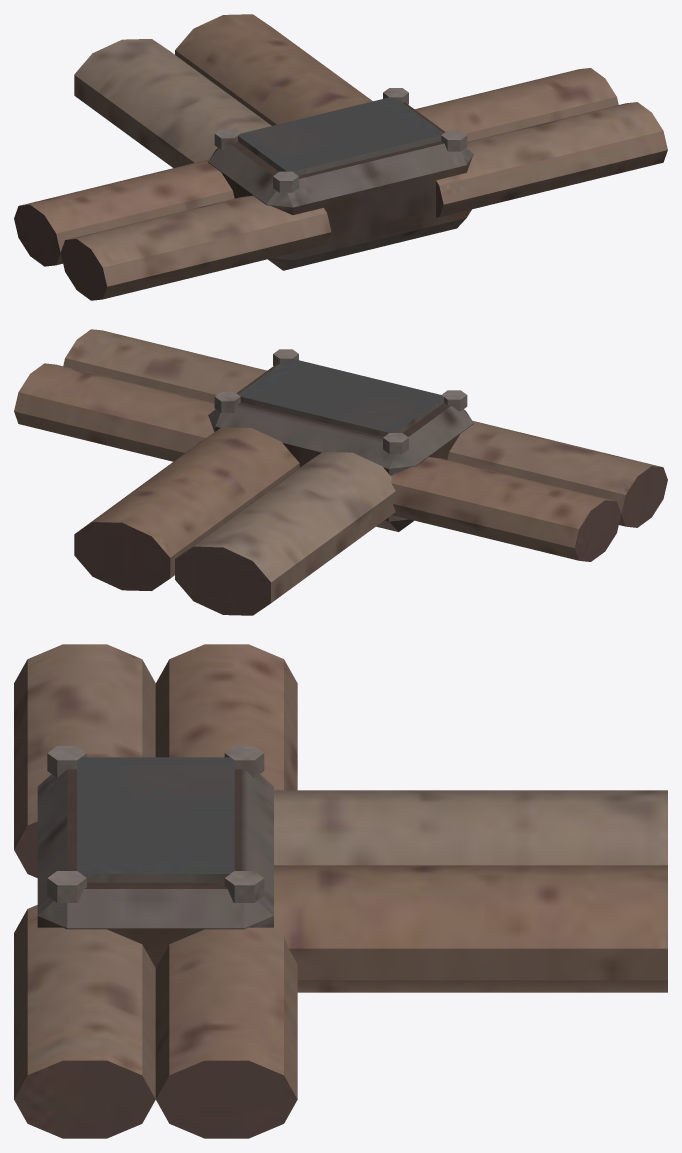
Rendered from heat-pipe-t-up.glb.
3 views of the same model, one above another, from view 1: azimuth 30°, elevation 25°; view 2: azimuth 150°, elevation 25°; view 3: azimuth 270°, elevation 25° (orthographic). The views are drawn at different scales.
Visible parts, largest first — view 1: body; view 2: body; view 3: body.
Boxes of the visible parts, x1,y1,x2,y2 form: body: [14, 14, 667, 300]; body: [14, 329, 667, 615]; body: [14, 644, 667, 1138].
Bounding box in the file's own units: 1 × 0.16 × 0.664.
Materials: 1 (1 with a texture image).
